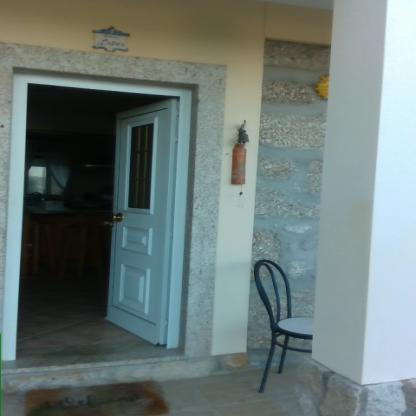open: (3, 62, 205, 382)
